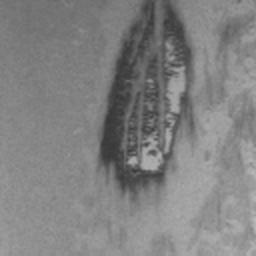Oxide scale of plate system: (93, 0, 196, 206)
